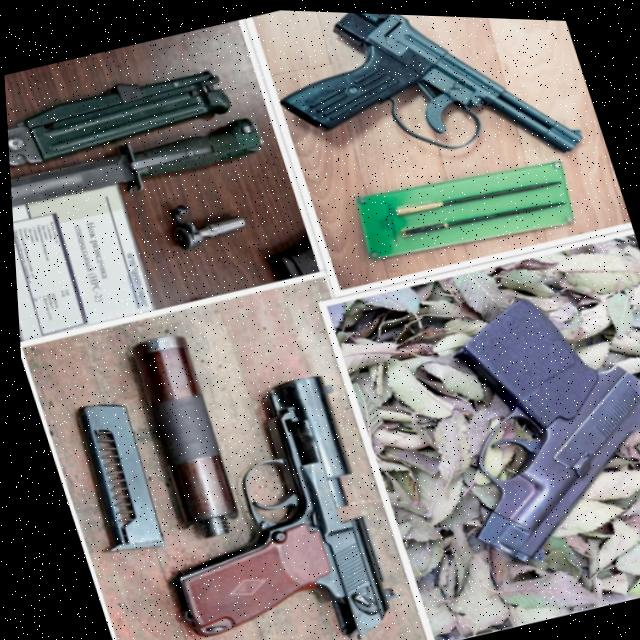knife: (5, 100, 269, 237)
pistol: (106, 363, 404, 640), (400, 267, 640, 574), (249, 7, 589, 219)
